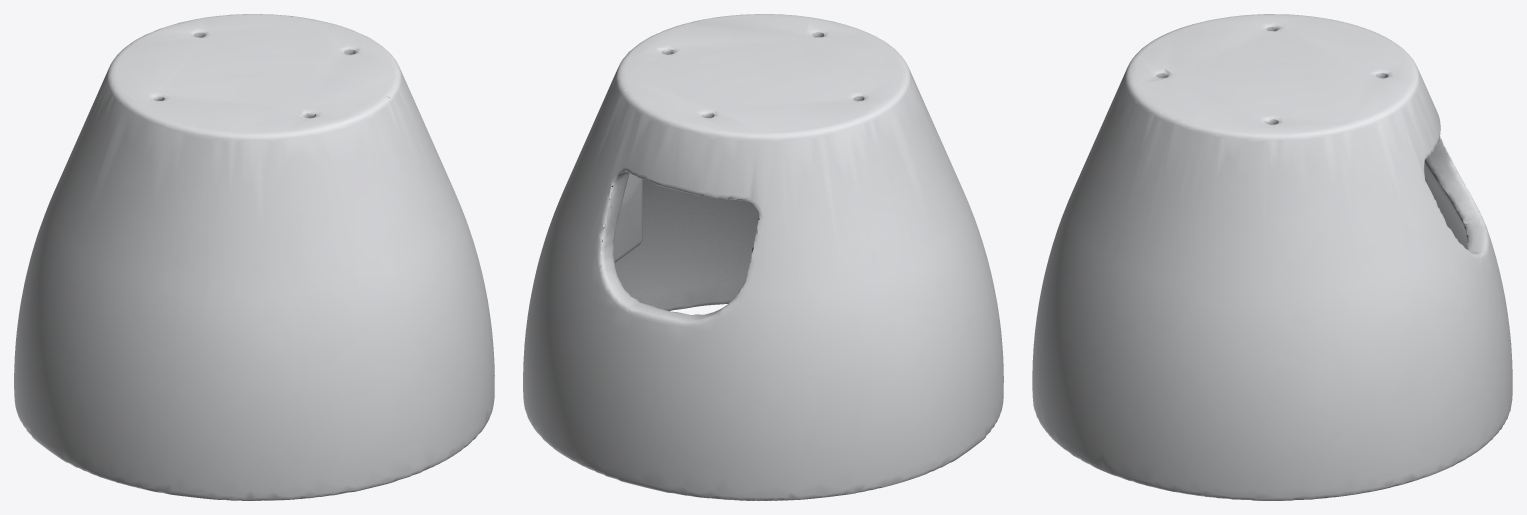
File: left_elbow_to_forarm_upper.glb
3 renders of one model, left to right at view 1: azimuth 30°, elevation 25°; view 2: azimuth 150°, elevation 25°; view 3: azimuth 270°, elevation 25°, orthographic.
Parts seen in each view (by area): view 1: left_elbow_to_forarm_upper; view 2: left_elbow_to_forarm_upper; view 3: left_elbow_to_forarm_upper.
Boxes of the visible parts, x1,y1,x2,y2 form: left_elbow_to_forarm_upper: (14,14,494,500); left_elbow_to_forarm_upper: (523,14,1003,500); left_elbow_to_forarm_upper: (1032,14,1512,500).
Bounding box in the file's own units: 0.073 × 0.0548 × 0.073.
Materials: 1 (1 with a texture image).
